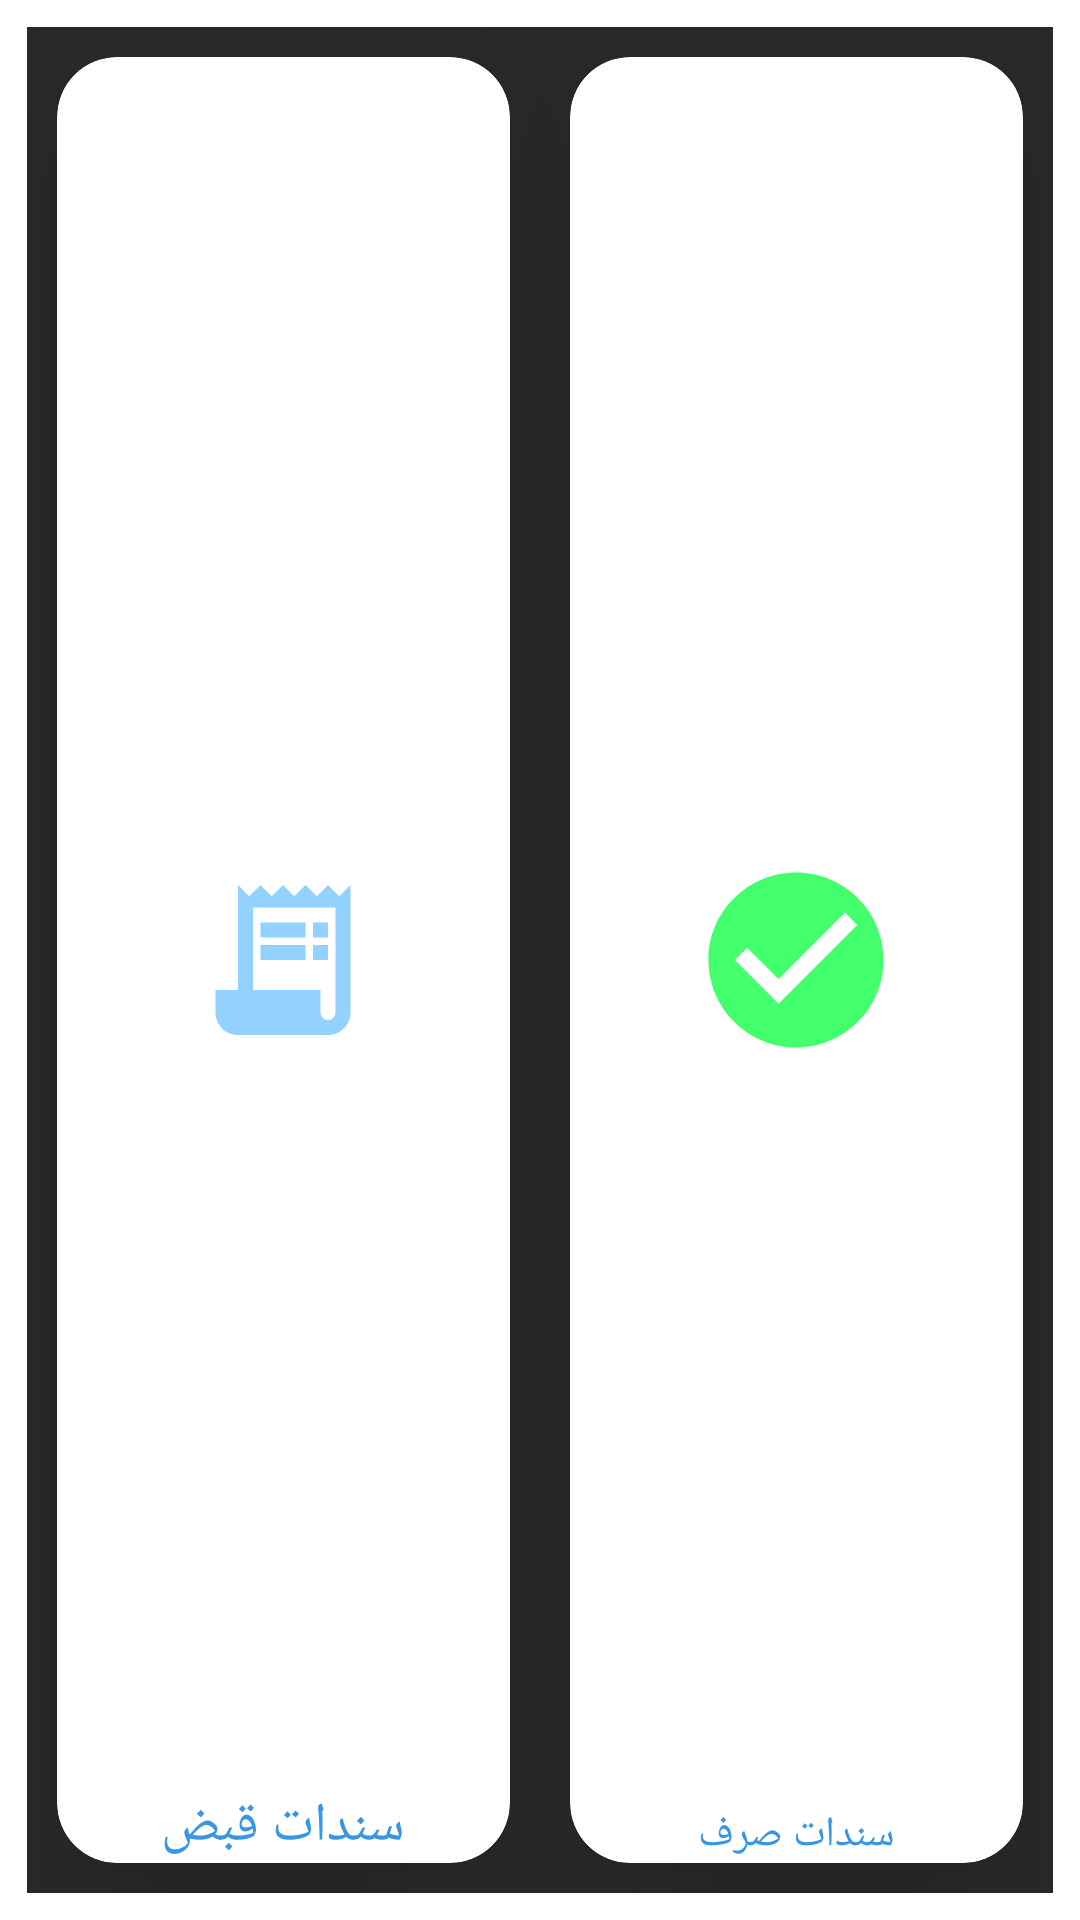

Icons on this 1080px×1920px Android screen, each with the point to tap as (x,y):
check circle: (796,960)
receipt lg: (283,960)
